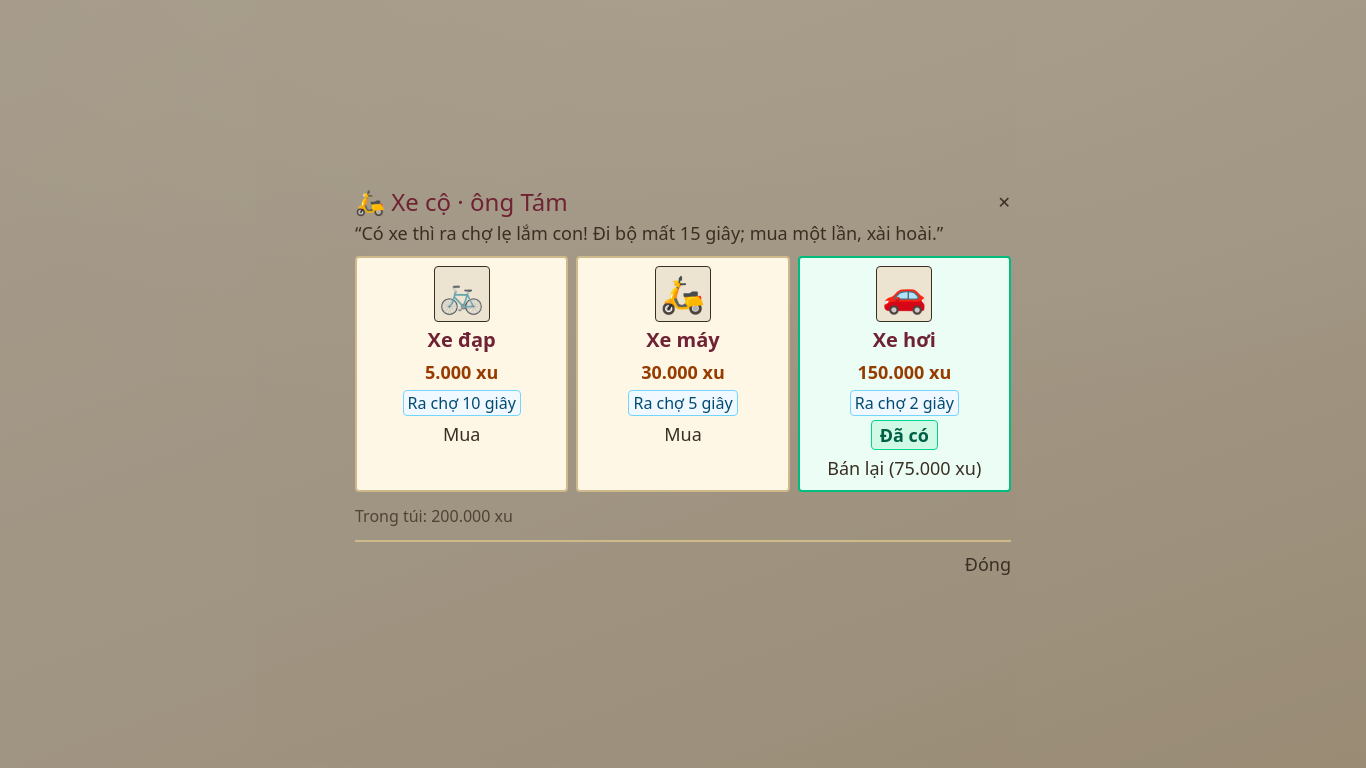
Test: VehicleShopModal › shows the sell refusal in Vietnamese
Click the button "Bán lại (75.000 xu)" at (904,468), box [827,454,981,482]
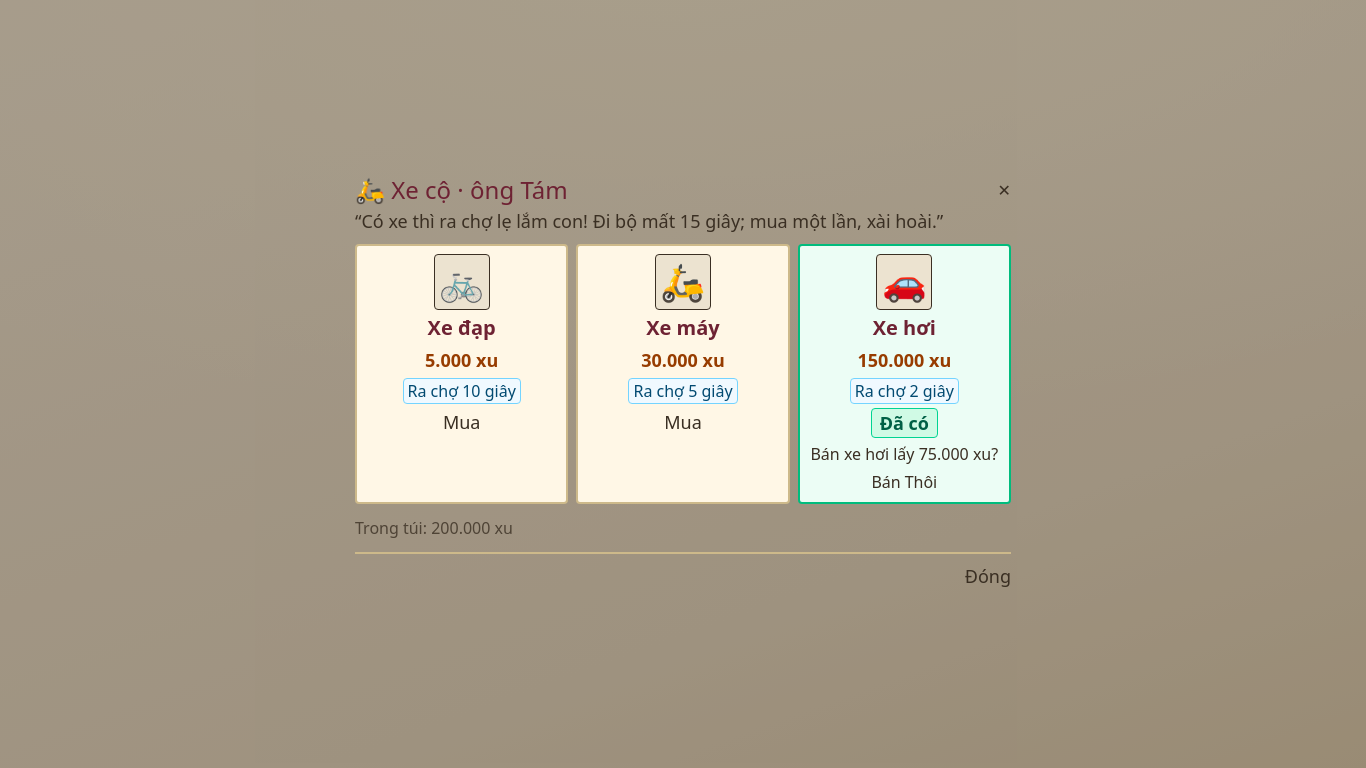
Click the button "Bán" at (886,482), box [871,470,901,494]
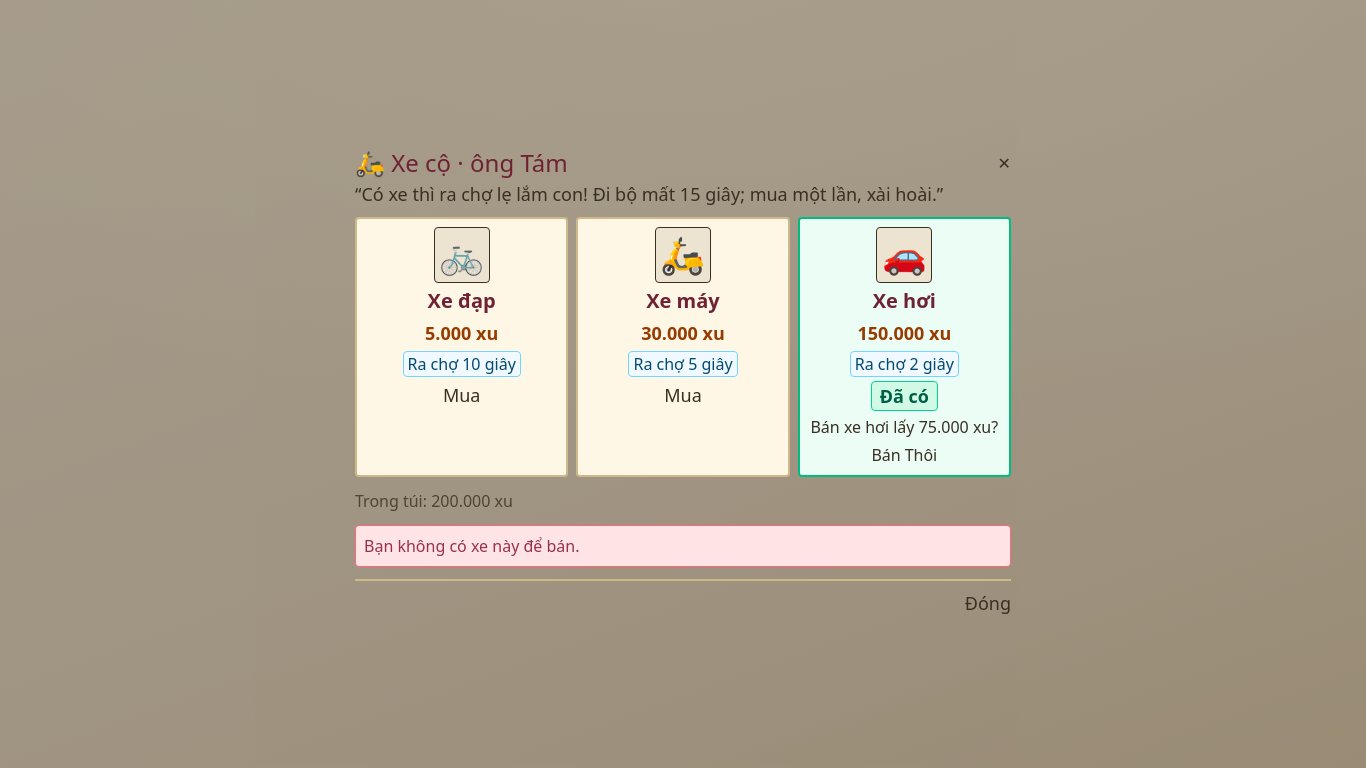
Expected: the message reads "Bạn không có xe này để bán.", [364,535,580,557]
